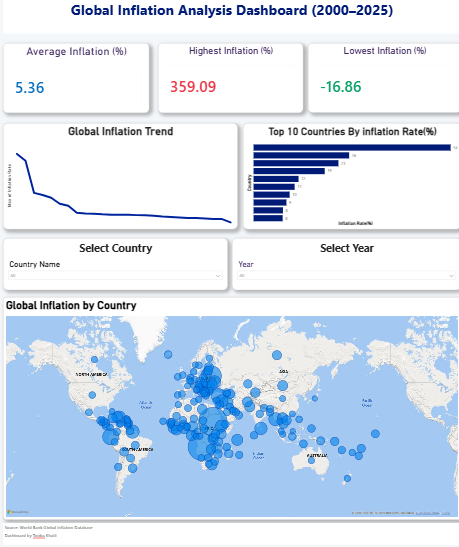

The dashboard page shown, as its layout file describes it:
{"tool":"powerbi","page":{"name":"Page 1","canvas":[1400,1890],"ordinal":0},"visuals":[{"type":"textbox","box":[11.1,0,1388.9,108.3],"z":0},{"type":"cardVisual","title":"Average Inflation (%)","fields":{"Data":["Avg(Cleaned_Global_Inflation_Data.Inflation Rate)"]},"box":[11.1,136.1,443.1,212.1],"z":1000},{"type":"cardVisual","title":"Highest Inflation (%)","fields":{"Data":["Max(Cleaned_Global_Inflation_Data.Inflation Rate)"]},"box":[480.6,136.1,439.7,212.1],"z":2000},{"type":"cardVisual","title":"Lowest Inflation (%)","fields":{"Data":["Min(Cleaned_Global_Inflation_Data.Inflation Rate)"]},"box":[936.1,136.1,463.9,211.1],"z":3000},{"type":"slicer","title":"Select Country","fields":{"Values":["Cleaned_Global_Inflation_Data.Country Name"]},"box":[11.1,727.8,680.6,158.3],"z":4000},{"type":"slicer","title":"Select Year","fields":{"Values":["Cleaned_Global_Inflation_Data.Year"]},"box":[705.6,727.8,694.4,158.3],"z":5000},{"type":"map","title":"Global Inflation by Country","fields":{"Category":["Cleaned_Global_Inflation_Data.Country Name"],"Size":["Max(Cleaned_Global_Inflation_Data.Inflation Rate)"]},"box":[11.1,905.6,1388.9,675],"z":6000},{"type":"lineChart","title":"Global Inflation Trend","fields":{"Y":["Max(Cleaned_Global_Inflation_Data.Inflation Rate)"],"Category":["Cleaned_Global_Inflation_Data.Year"]},"box":[11.1,377.8,711.1,322.2],"z":7000},{"type":"clusteredBarChart","title":"Top 10 Countries By inflation Rate(%)","fields":{"Category":["Cleaned_Global_Inflation_Data.Country Name"],"Y":["Max(Cleaned_Global_Inflation_Data.Inflation Rate)"]},"box":[738.9,377.8,661.1,322.2],"z":8000},{"type":"textbox","box":[11.6,1590.7,1388.4,67.4],"z":8001}]}

Visuals, with their boxes on the page's 1400x1890 design canvas (x1, y1, x2, y2). These are canvas units, not pixel positions in the 459x547 screenshot, which may show the page scaled, cropped or inside an application window:
textbox: [11,0,1400,108]
"Average Inflation (%)" cardVisual: [11,136,454,348]
"Highest Inflation (%)" cardVisual: [481,136,920,348]
"Lowest Inflation (%)" cardVisual: [936,136,1400,347]
"Select Country" slicer: [11,728,692,886]
"Select Year" slicer: [706,728,1400,886]
"Global Inflation by Country" map: [11,906,1400,1581]
"Global Inflation Trend" lineChart: [11,378,722,700]
"Top 10 Countries By inflation Rate(%)" clusteredBarChart: [739,378,1400,700]
textbox: [12,1591,1400,1658]
